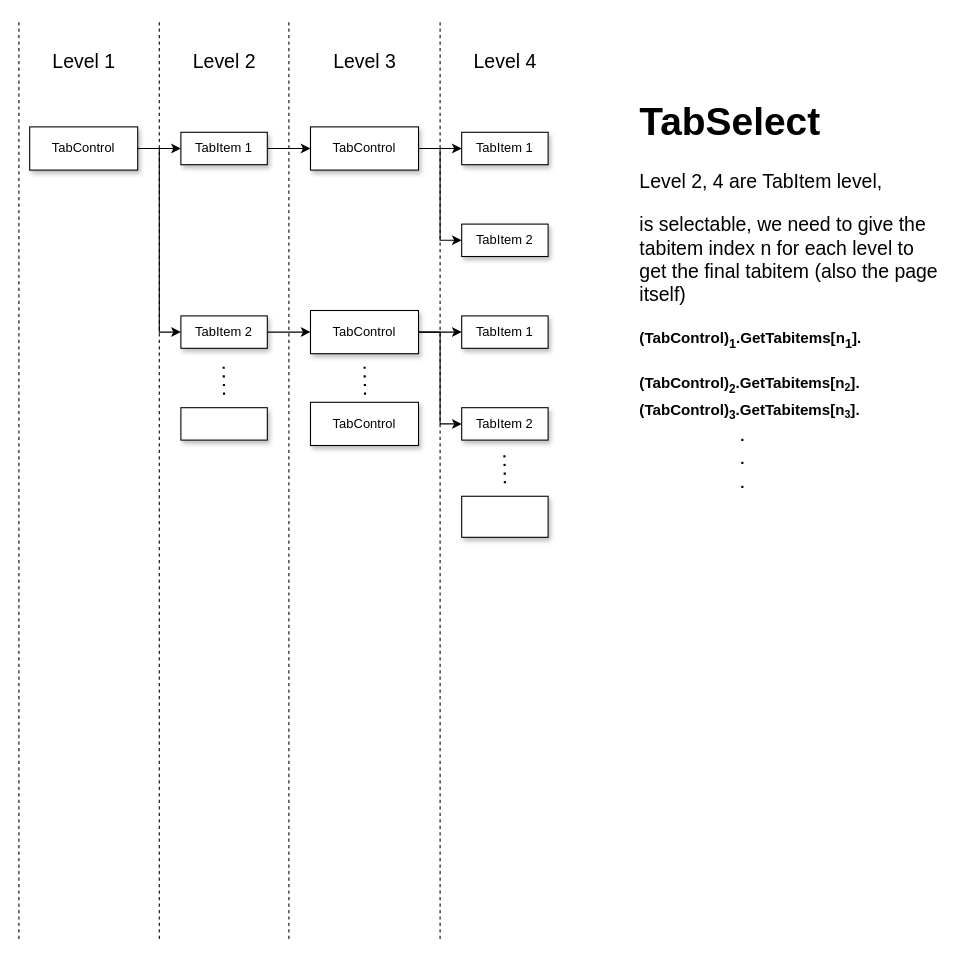
This 967x959 diagram has some shape labels left out. The shapes that lost their labels are listed below. From the top down, each one's centre as x and y in pixels, then its label:
the point at 225,425: TabItem n
the point at 505,518: TabItem 1 n ,2 n ,3 n ,...,N n
